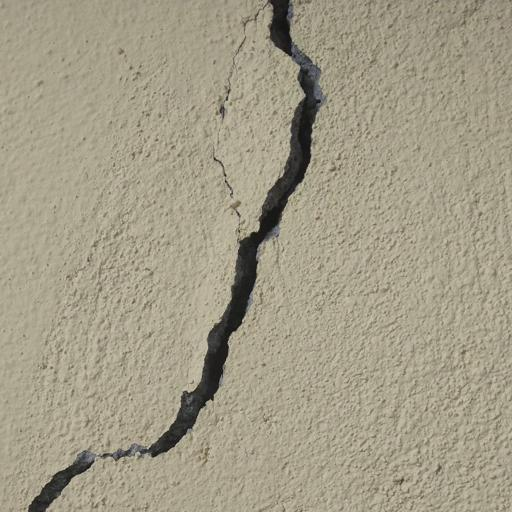major_crack: (19, 0, 334, 512)
